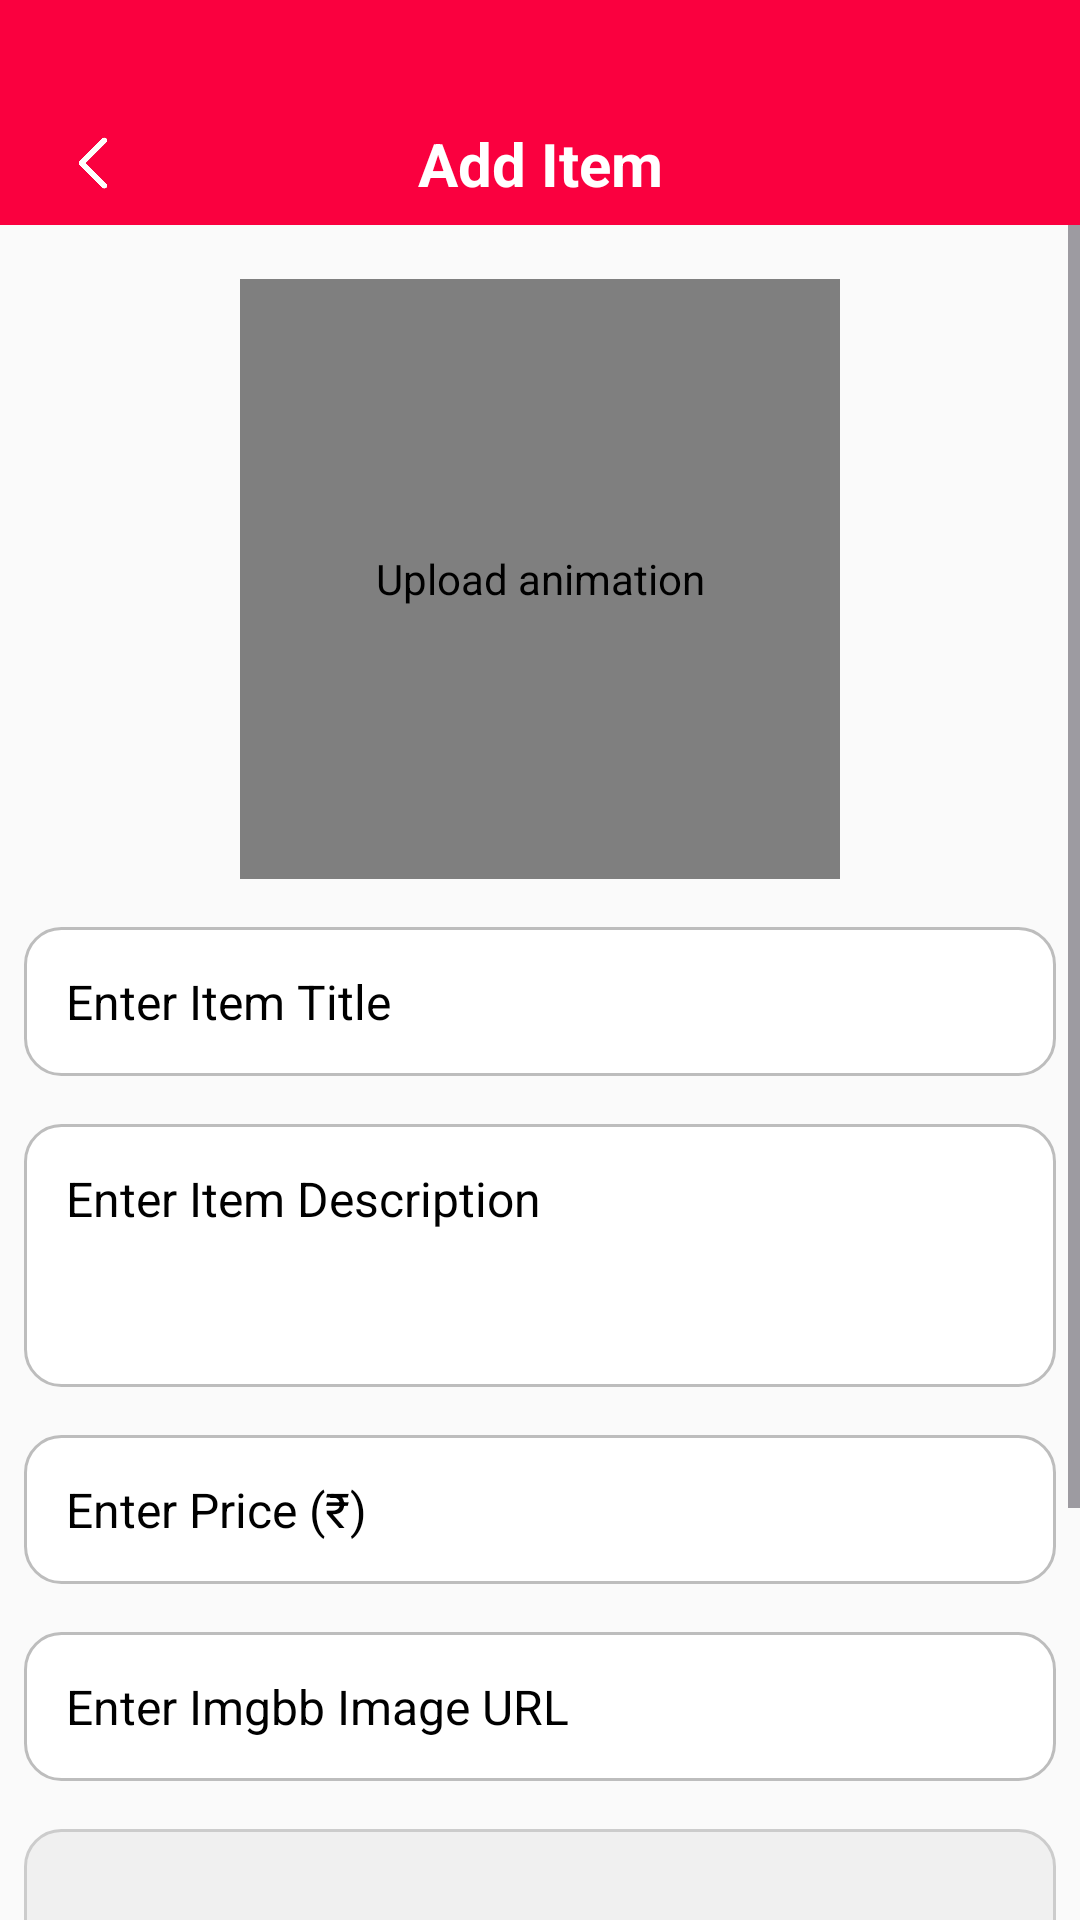

Screen size 1080w x 1920h. Icon name, then its center in pixels as point (x, y):
Back: point (93, 163)
